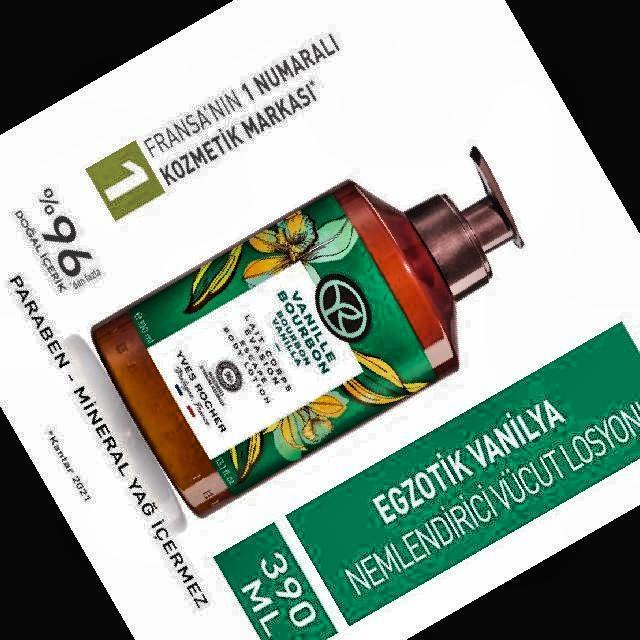plastic: (92, 148, 522, 515)
